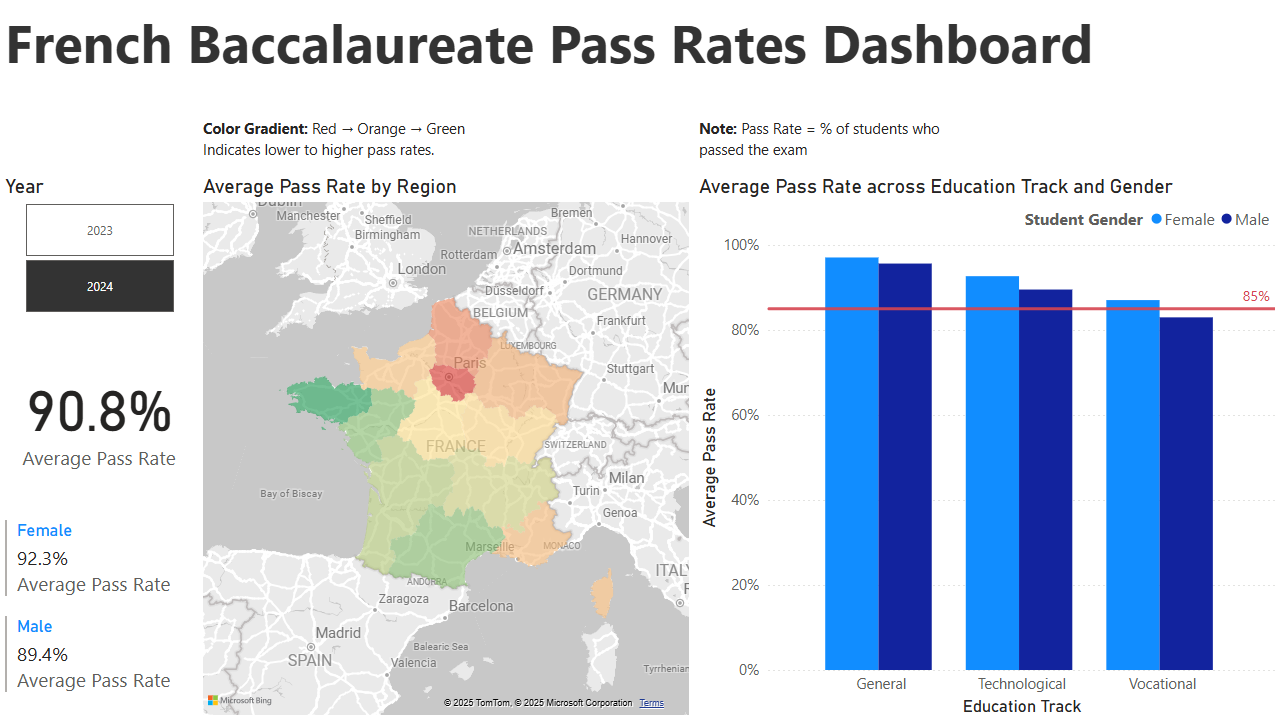

Layout of this report page (visuals, bound fields, positions):
{"tool":"powerbi","page":{"name":"pass_rate","canvas":[1280,720],"ordinal":0},"visuals":[{"type":"multiRowCard","fields":{"Values":["Avg(success_rate.pass_rate_baccalaureate)","success_rate.student_gender"]},"box":[0,113,198.4,209.6],"z":0},{"type":"slicer","fields":{"Values":["success_rate.year"]},"box":[458.3,137.1,133.2,113.6],"z":1000},{"type":"clusteredColumnChart","title":"Average Pass Rate across Education Track and Gender","fields":{"Category":["success_rate.education_track"],"Series":["success_rate.student_gender"],"Y":["Avg(success_rate.pass_rate_baccalaureate)"]},"box":[0,322.5,639.4,397.5],"z":2000},{"type":"filledMap","title":"Average Pass Rate by Region","fields":{"Category":["department.location_hierarchy.region_name","department.location_hierarchy.department"]},"box":[640.2,137.3,640.2,582.7],"z":3000},{"type":"textbox","box":[0,0,1280,96.6],"z":4000},{"type":"card","fields":{"Values":["Avg(success_rate.pass_rate_baccalaureate)"]},"box":[198.8,137.1,237,113.6],"z":5000},{"type":"textbox","box":[281.2,288.9,358,33.6],"z":6000}]}

Visuals, with their boxes in screenshot pixels (x1, y1, x2, y2), scaled from the page's 1280x720 canvas onto the 1280x720 screenshot:
multiRowCard - Avg(success_rate.pass_rate_baccalaureate) x success_rate.student_gender: x1=0 y1=113 x2=198 y2=323
slicer - success_rate.year: x1=458 y1=137 x2=592 y2=251
"Average Pass Rate across Education Track and Gender" clusteredColumnChart: x1=0 y1=322 x2=639 y2=719
"Average Pass Rate by Region" filledMap: x1=640 y1=137 x2=1279 y2=719
textbox: x1=0 y1=0 x2=1279 y2=97
card - Avg(success_rate.pass_rate_baccalaureate): x1=199 y1=137 x2=436 y2=251
textbox: x1=281 y1=289 x2=639 y2=322
